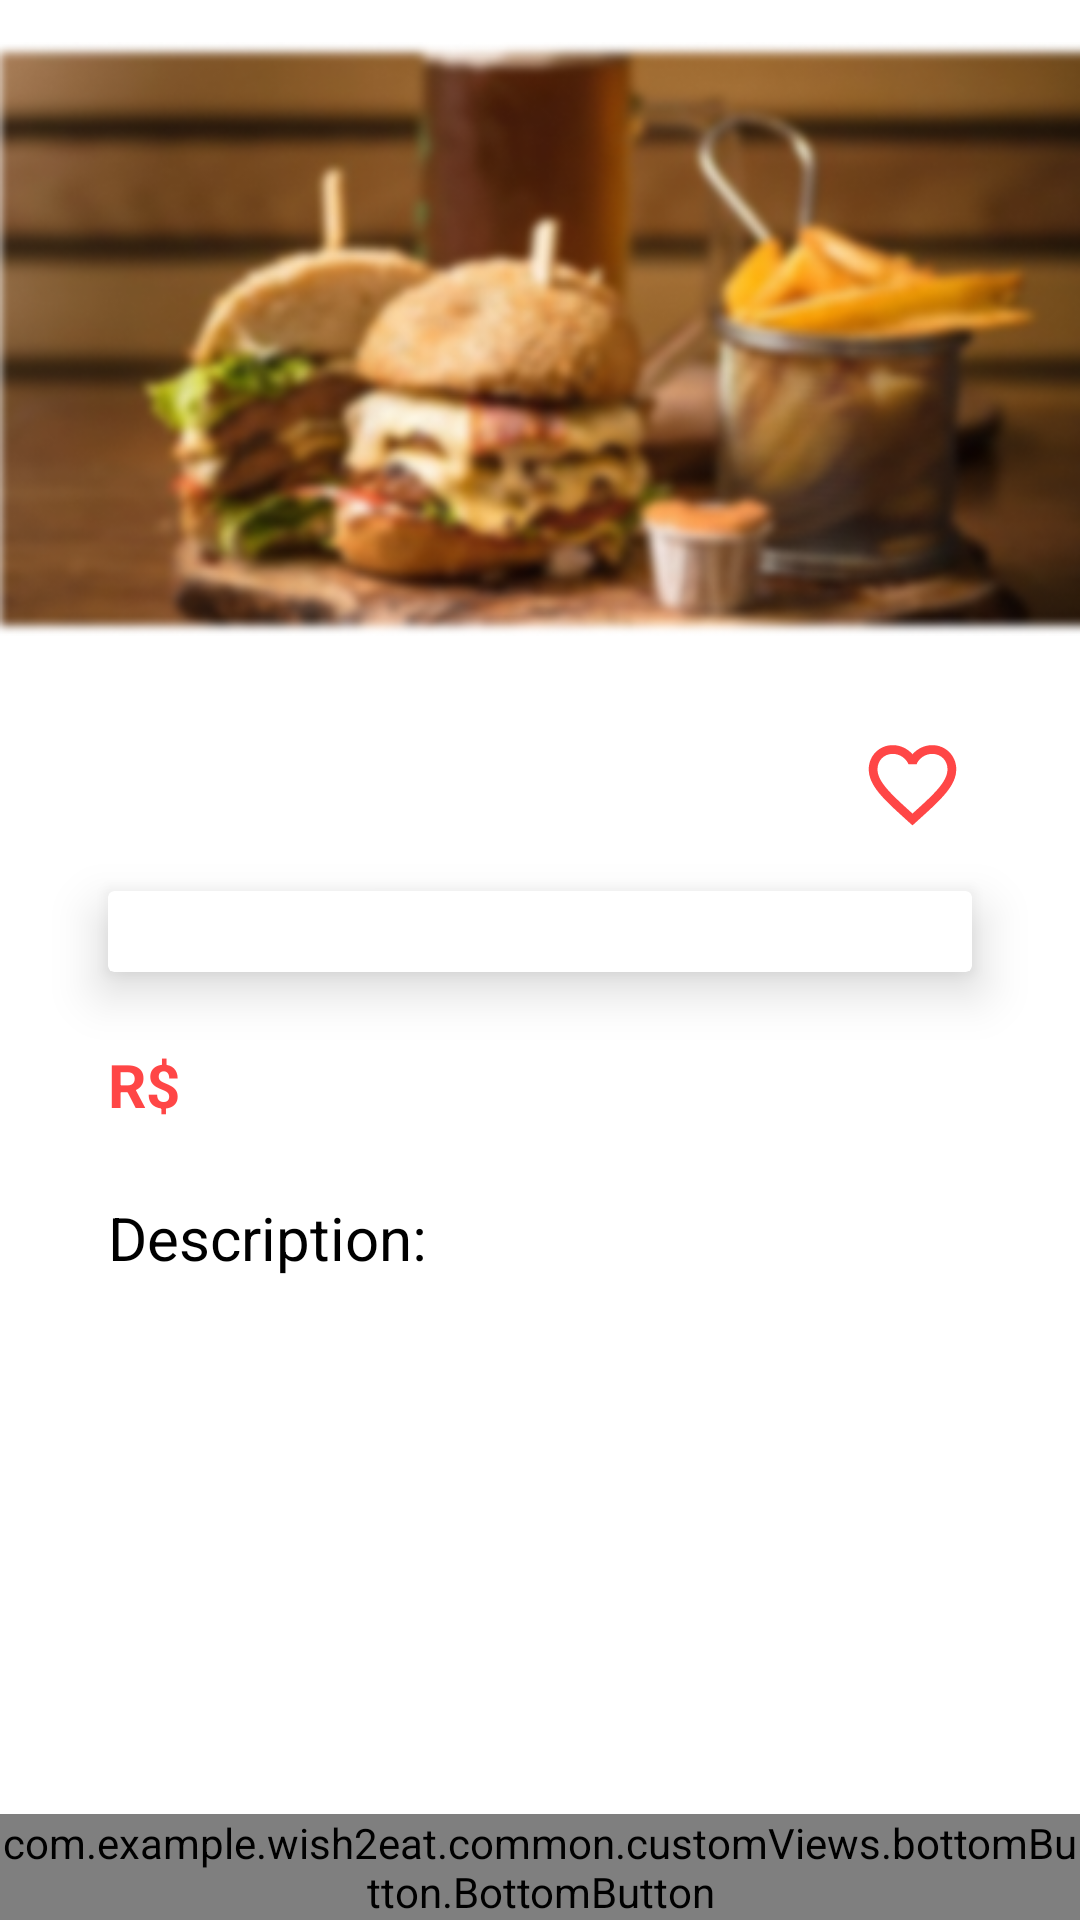

Icon bounding boxes for this 1080x1920 phone screenshot, format (x1, y1, x2, y2):
favorite empty: (868, 745, 957, 825)
